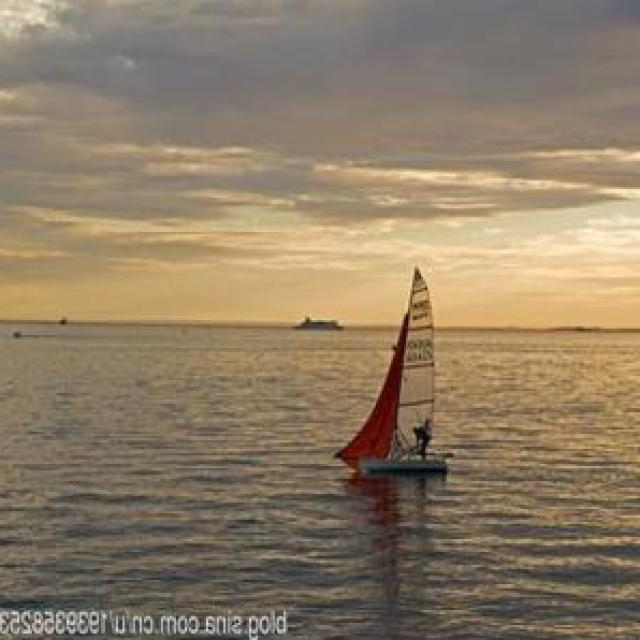sailboat: (334, 256, 451, 474)
